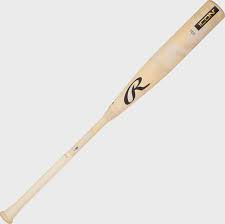baseball bat: (1, 1, 225, 224)
